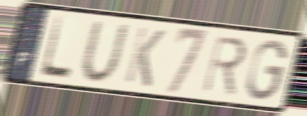7: (167, 25, 212, 97)
G: (245, 38, 290, 103)
K: (122, 24, 168, 90)
L: (38, 14, 74, 82)
R: (200, 34, 249, 98)
U: (79, 20, 131, 86)
